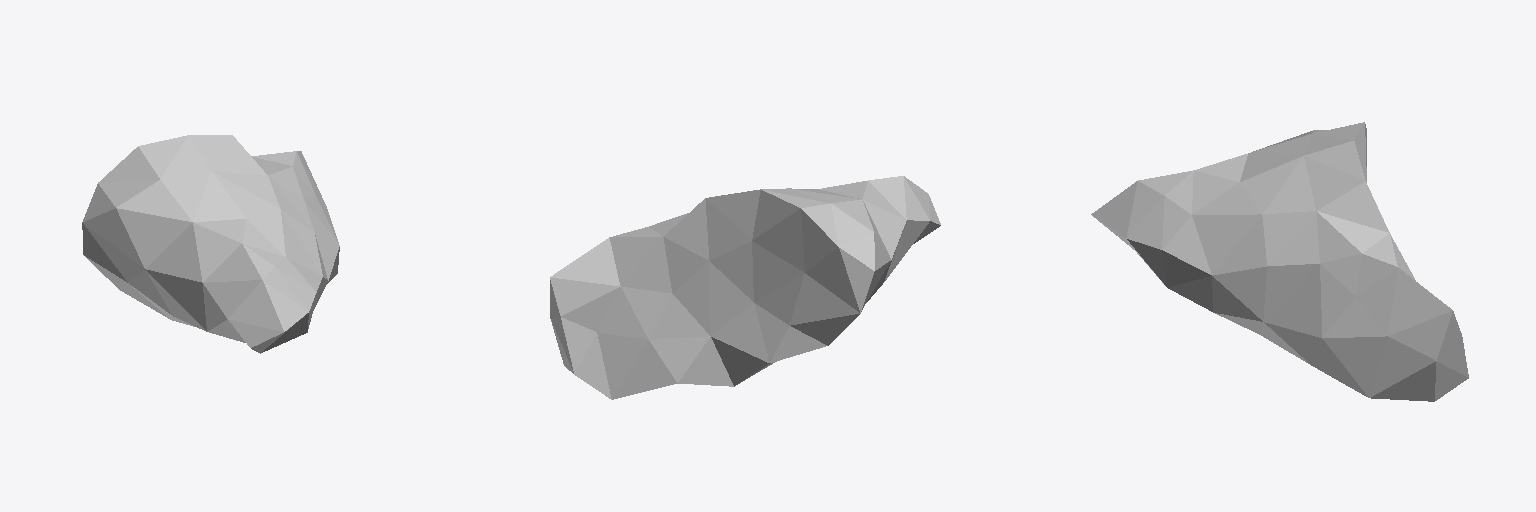
File: adrenal gland.obj
3 renders of one model, left to right at view 1: azimuth 30°, elevation 25°; view 2: azimuth 150°, elevation 25°; view 3: azimuth 270°, elevation 25°, orthographic.
Size of the model in its own units: 3.12 by 2.15 by 3.64.